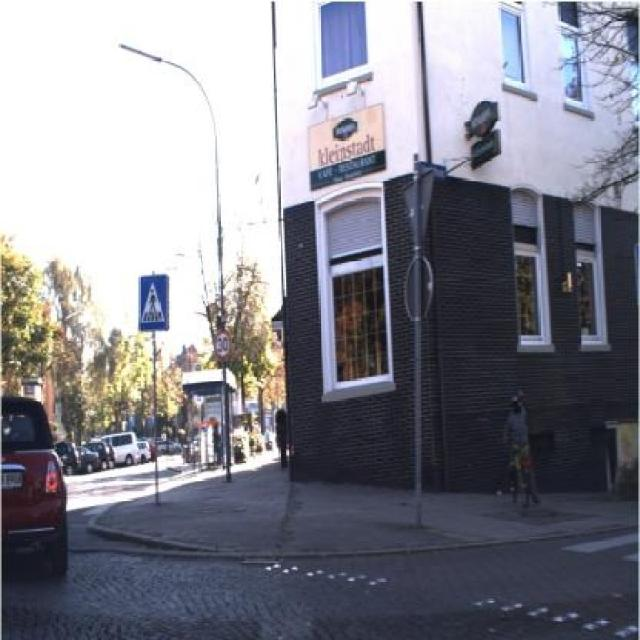forb_speed_over_30: (212, 329, 236, 363)
